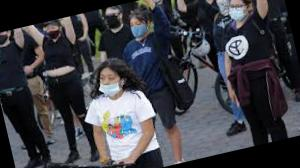mask_weared_incorrect: (96, 71, 123, 96), (104, 10, 123, 31)
with_mask: (226, 1, 248, 20), (129, 20, 148, 38), (45, 25, 62, 42), (214, 1, 230, 8)
